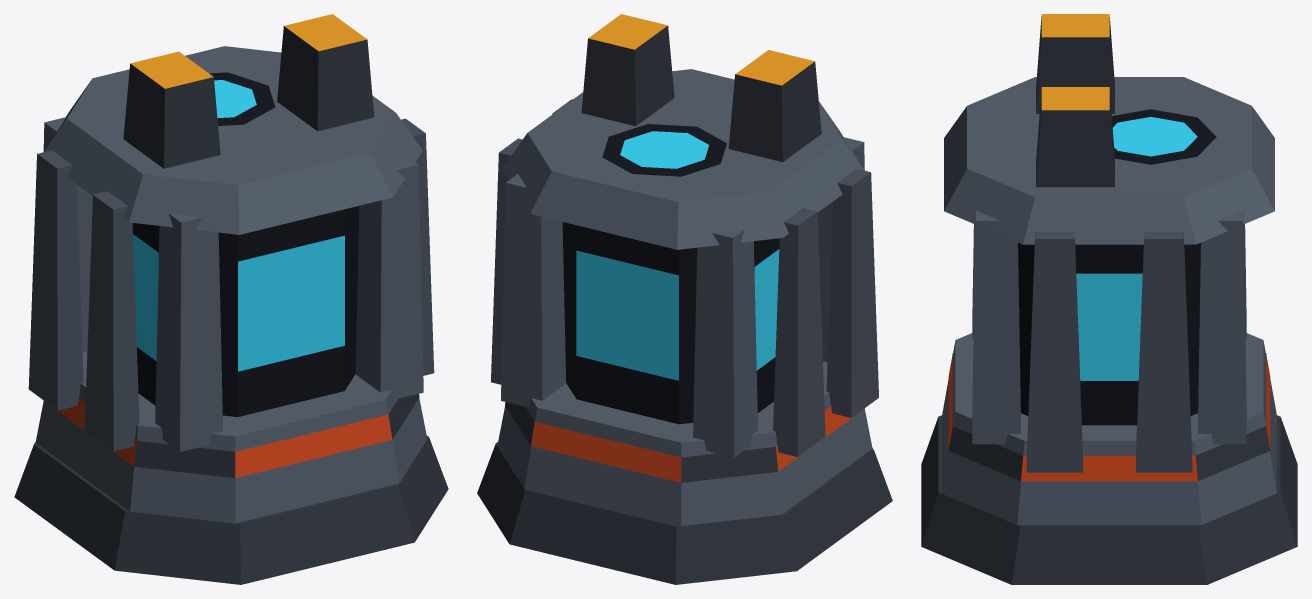
Rendered from SM_Reactor_LOD0.fbx.
3 views of the same model, side by side, from view 1: azimuth 30°, elevation 25°; view 2: azimuth 150°, elevation 25°; view 3: azimuth 270°, elevation 25° (orthographic). The views are drawn at different scales.
Parts seen in each view (by area): view 1: SM_Reactor_LOD0; view 2: SM_Reactor_LOD0; view 3: SM_Reactor_LOD0.
Boxes of the visible parts, x1,y1,x2,y2 form: SM_Reactor_LOD0: (14, 14, 448, 584); SM_Reactor_LOD0: (477, 14, 892, 584); SM_Reactor_LOD0: (921, 14, 1297, 584).
Size of the model in its own units: 2 by 2.6 by 2.
